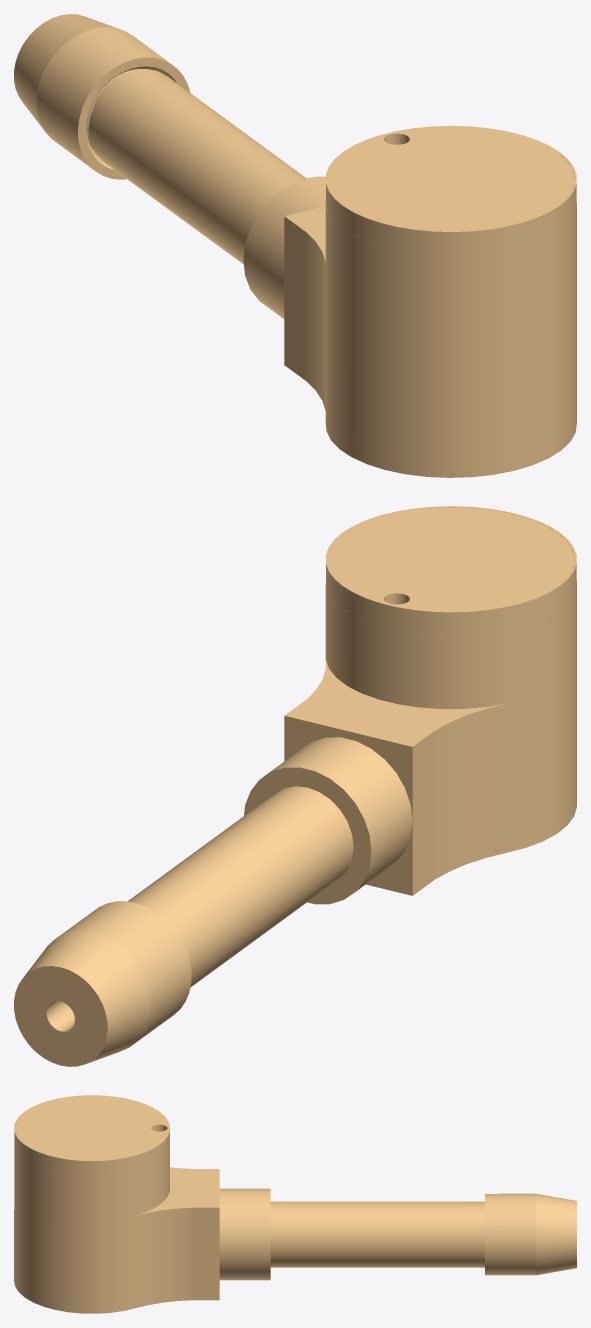
The model's file is Brockton.glb.
3 renders of one model, top to bottom at view 1: azimuth 30°, elevation 25°; view 2: azimuth 150°, elevation 25°; view 3: azimuth 270°, elevation 25°, orthographic. The views are drawn at different scales.
Parts seen in each view (by area): view 1: Brockton MK2 v2; view 2: Brockton MK2 v2; view 3: Brockton MK2 v2.
Boxes of the visible parts, x1,y1,x2,y2 form: Brockton MK2 v2: (14,14,576,477); Brockton MK2 v2: (14,506,576,1066); Brockton MK2 v2: (14,1095,576,1313).
Size of the model in its own units: 3.54 by 3.82 by 12.77.
